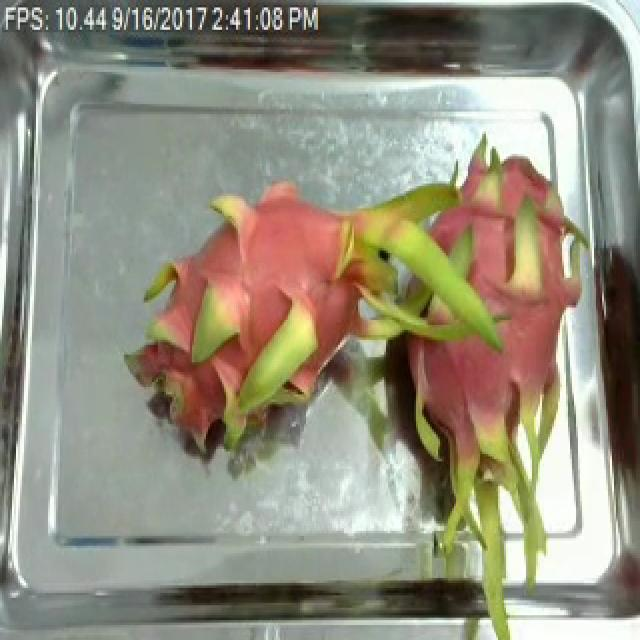Fruit: (406, 295, 548, 491)
